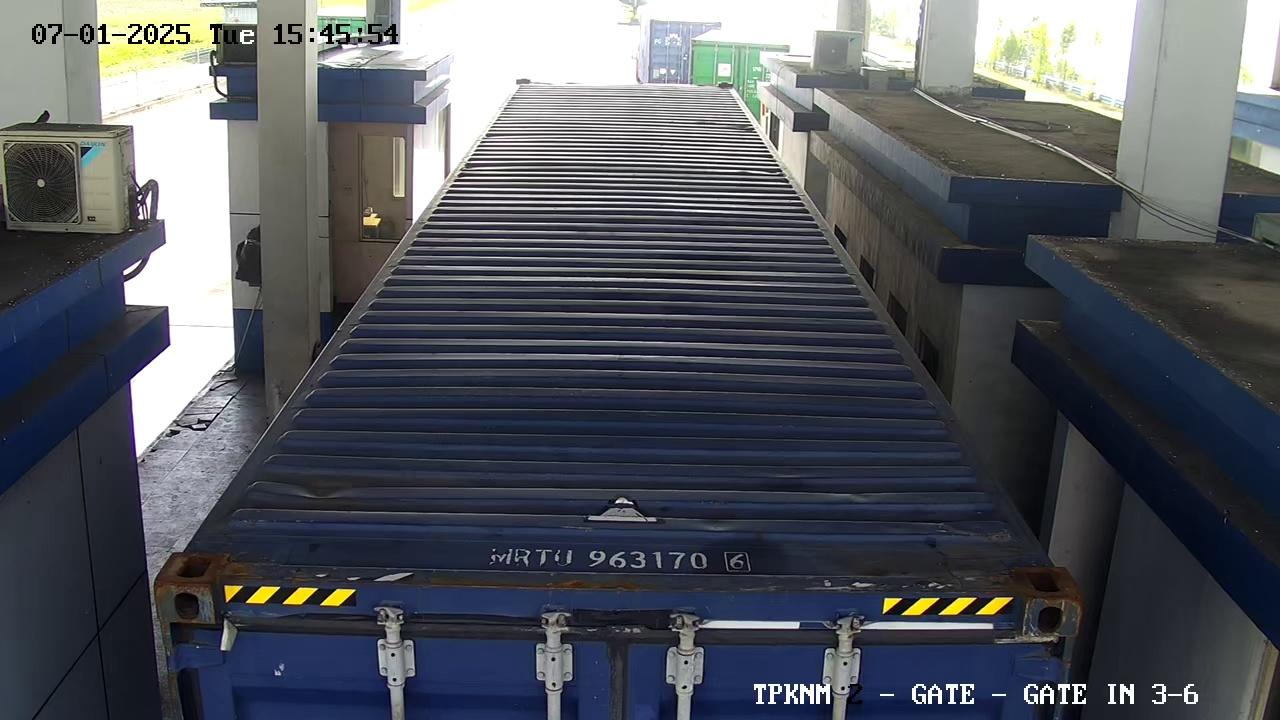Container_ID: (473, 519, 760, 597)
